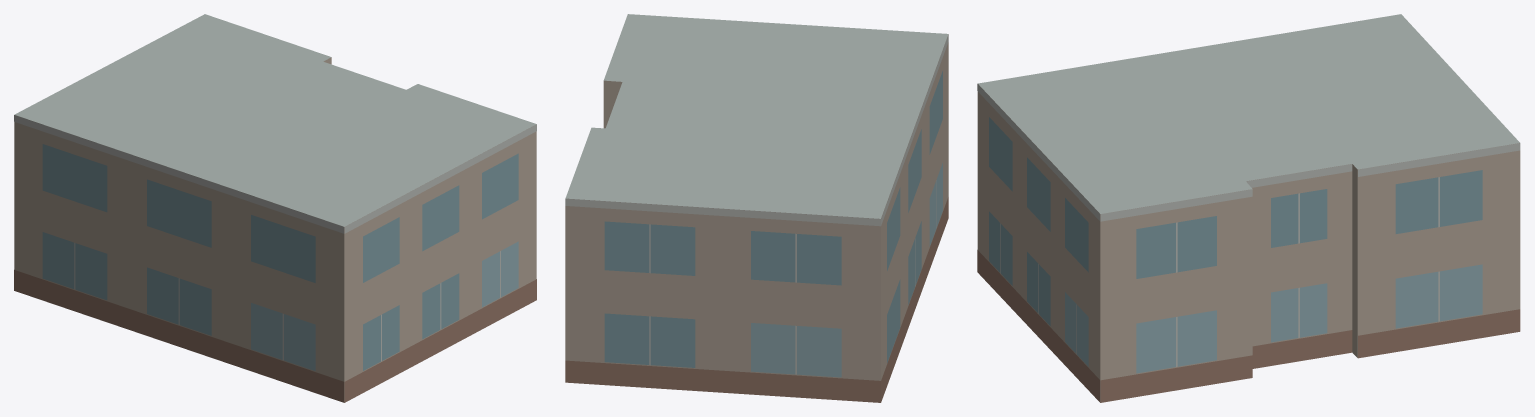
File: survey-upis-32940710.glb
The picture shows the model from 3 angles, left to right: view 1: azimuth 30°, elevation 25°; view 2: azimuth 150°, elevation 25°; view 3: azimuth 270°, elevation 25°; orthographic projection. The views are drawn at different scales.
Parts seen in each view (by area): view 1: survey-upis-32940710.tmp; view 2: survey-upis-32940710.tmp; view 3: survey-upis-32940710.tmp.
Part boxes in pixels (bbox=[...]): survey-upis-32940710.tmp: bbox=[14, 14, 536, 402]; survey-upis-32940710.tmp: bbox=[565, 14, 948, 402]; survey-upis-32940710.tmp: bbox=[977, 14, 1520, 402].
Size of the model in its own units: 13.88 by 6.1 by 15.91.
